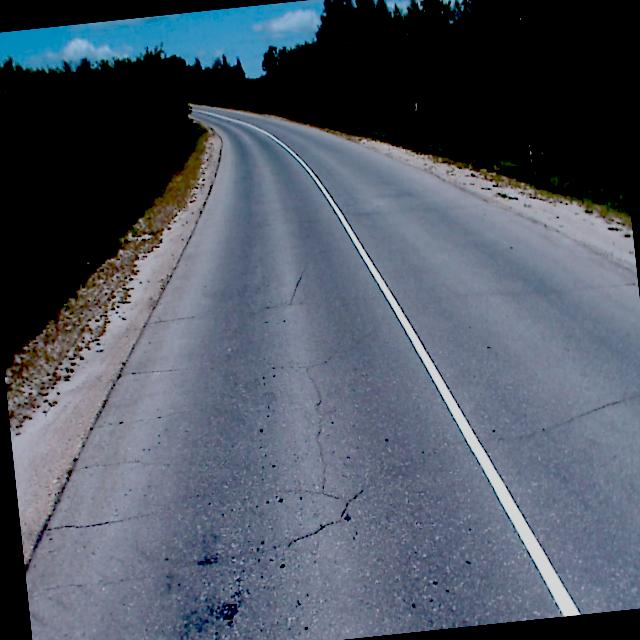road: (24, 104, 640, 640)
